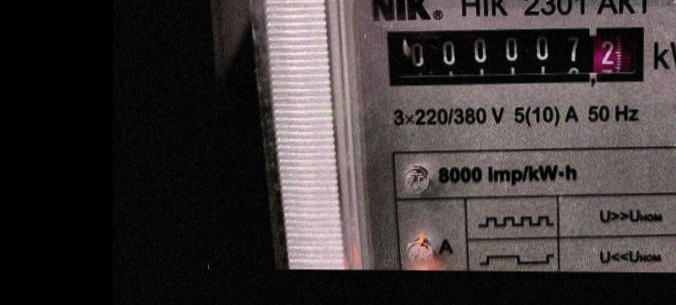0: (408, 40, 425, 67), (502, 35, 519, 62), (471, 36, 487, 64), (440, 38, 456, 65), (534, 34, 549, 62)
2: (599, 40, 615, 66)
7: (565, 33, 580, 64)
screen: (375, 19, 655, 93)
